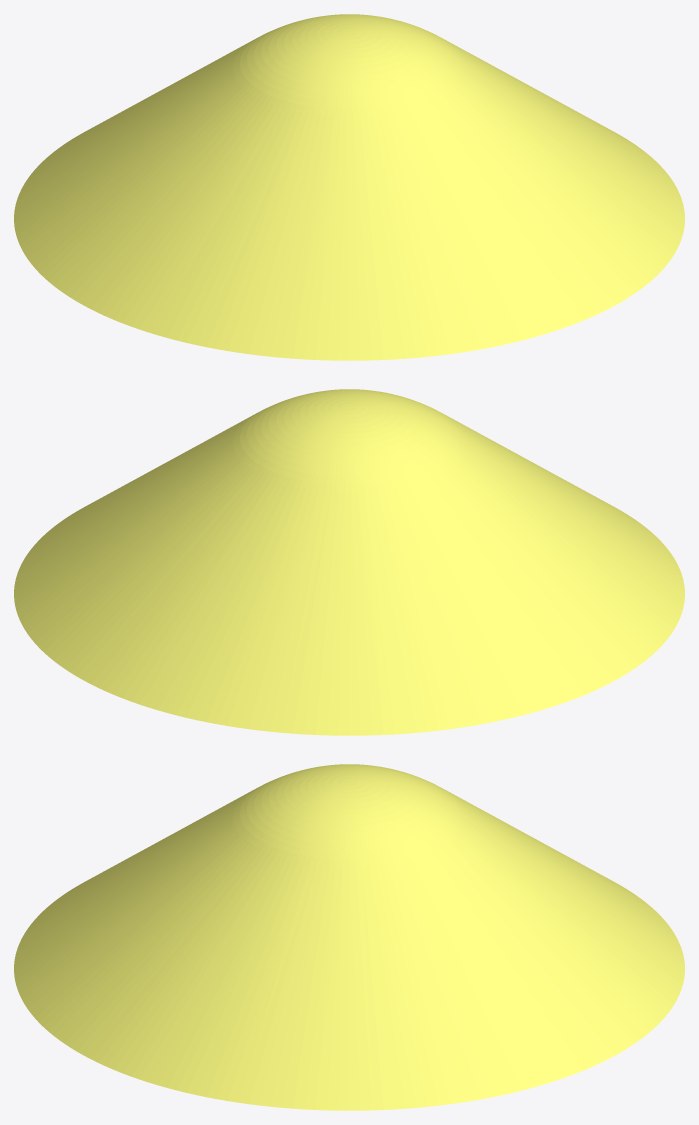
The model's file is echauffement cone reentree.dae.
3 renders of one model, top to bottom at view 1: azimuth 30°, elevation 25°; view 2: azimuth 150°, elevation 25°; view 3: azimuth 270°, elevation 25°, orthographic.
Parts seen in each view (by area): view 1: Flamme_ree; view 2: Flamme_ree; view 3: Flamme_ree.
Part boxes in pixels (x1,y1,x2,y2): Flamme_ree: [14, 14, 684, 360]; Flamme_ree: [14, 389, 684, 735]; Flamme_ree: [14, 764, 684, 1110].
Size of the model in its own units: 551 by 551 by 169.
